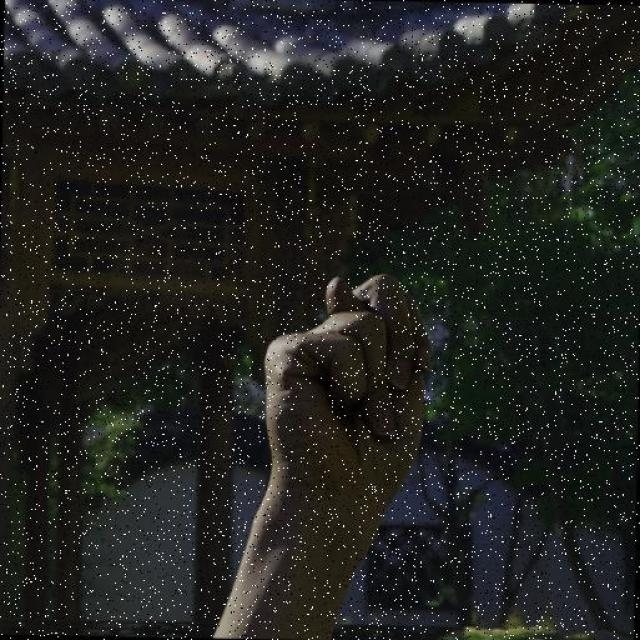N: (256, 265, 442, 510)
